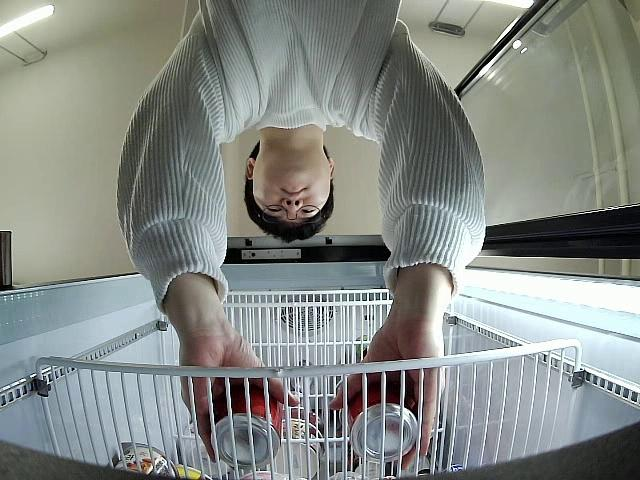00_hand: (326, 303, 446, 470), (179, 326, 295, 462)
11_cocaColaZero: (212, 376, 281, 467), (342, 384, 419, 465)
